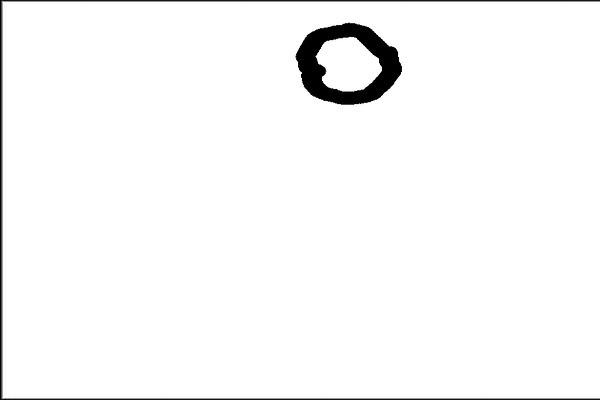O: (286, 11, 404, 117)
